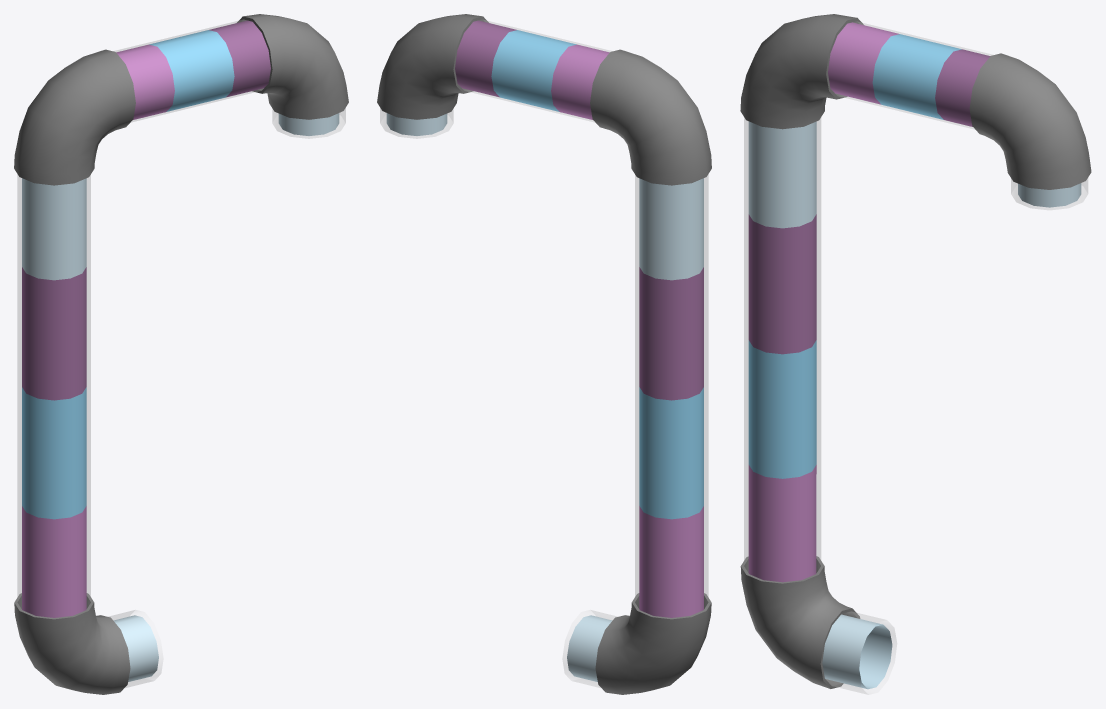
The model's file is pipe_stand_4.fbx.
The picture shows the model from 3 angles, left to right: view 1: azimuth 30°, elevation 25°; view 2: azimuth 150°, elevation 25°; view 3: azimuth 330°, elevation 25°; orthographic projection. The views are drawn at different scales.
Parts seen in each view (by area): view 1: pipe_stand blue.purple; view 2: pipe_stand blue.purple; view 3: pipe_stand blue.purple.
Boxes of the visible parts, left/top/right/bottom form: pipe_stand blue.purple: left=14, top=14, right=348, bottom=694; pipe_stand blue.purple: left=377, top=14, right=711, bottom=694; pipe_stand blue.purple: left=740, top=14, right=1091, bottom=694.
Bounding box in the file's own units: 139 × 260 × 29.84.
